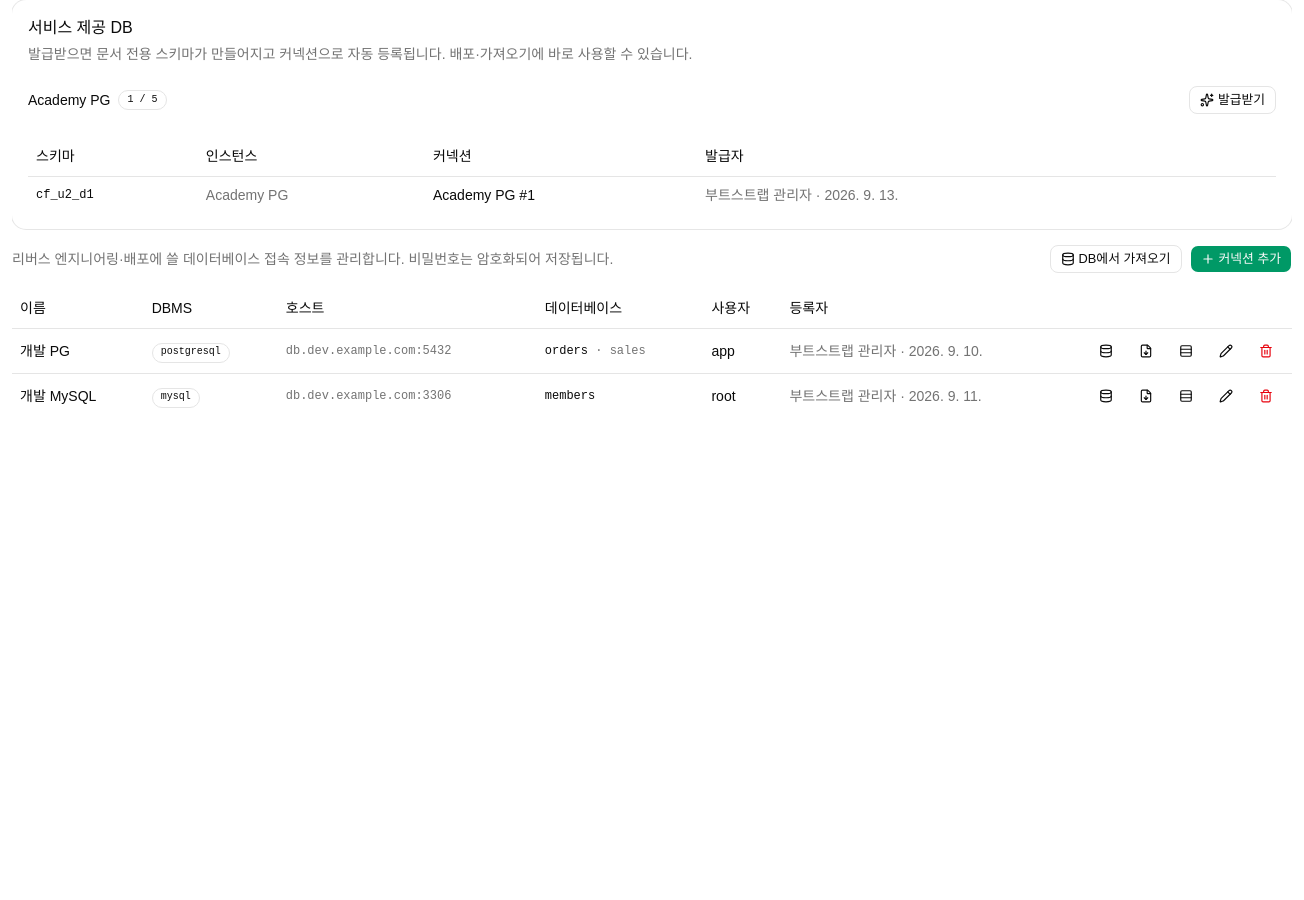
데이터베이스 탭 › 접속 테스트 실패는 경고 토스트로 안내한다
Click the button named "개발 PG 접속 테스트".
click(1106, 351)  # box top-left (1088, 337), bottom-right (1124, 365)
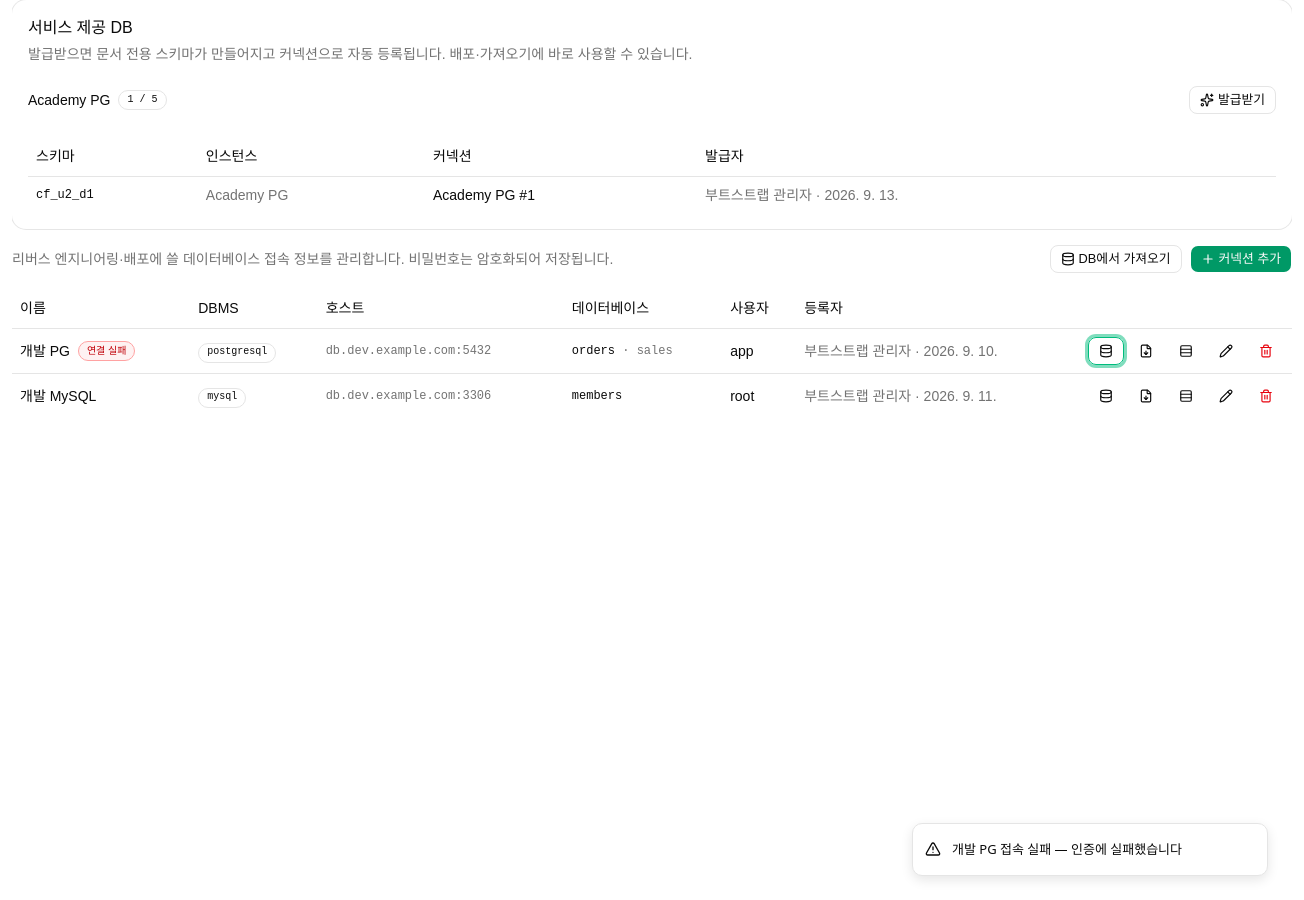
Check: the text "개발 PG 접속 실패 — 인증에 실패했습니다" is shown, box top-left (952, 840), bottom-right (1182, 859)
Check: the icon "연결 실패" is shown, box top-left (78, 341), bottom-right (136, 361)
